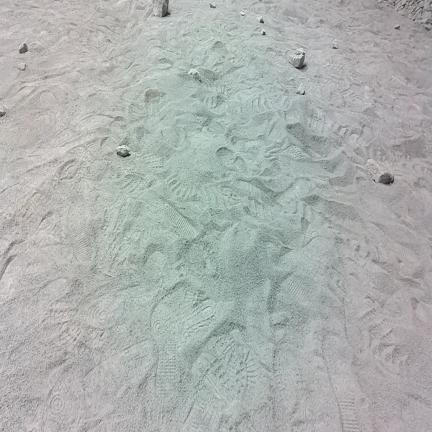Rock: (366, 159, 393, 184), (410, 0, 431, 23), (289, 49, 305, 68), (153, 0, 168, 17), (145, 89, 161, 102), (378, 173, 394, 184), (116, 145, 130, 157), (189, 69, 201, 81), (296, 83, 304, 94), (19, 43, 27, 53), (332, 39, 338, 48), (18, 63, 25, 70), (0, 107, 5, 116), (258, 17, 263, 23), (395, 24, 400, 29), (210, 4, 215, 8), (261, 30, 265, 35), (241, 12, 245, 16)
